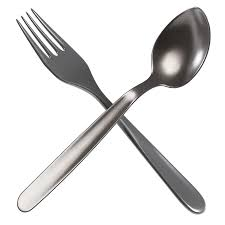Spoon: (17, 5, 211, 212), (17, 7, 206, 213)
